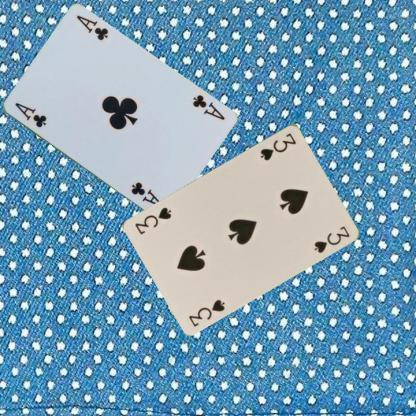3s: (257, 130, 298, 162), (186, 296, 227, 327)
Ac: (189, 92, 226, 122), (12, 100, 48, 129)
